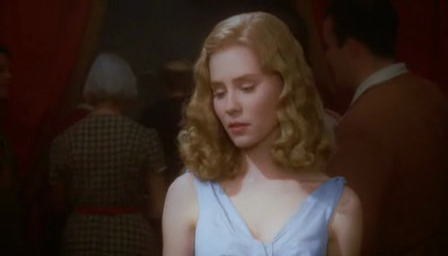face: (209, 63, 272, 148)
mcu: (1, 1, 448, 256)
person: (162, 10, 363, 256)
